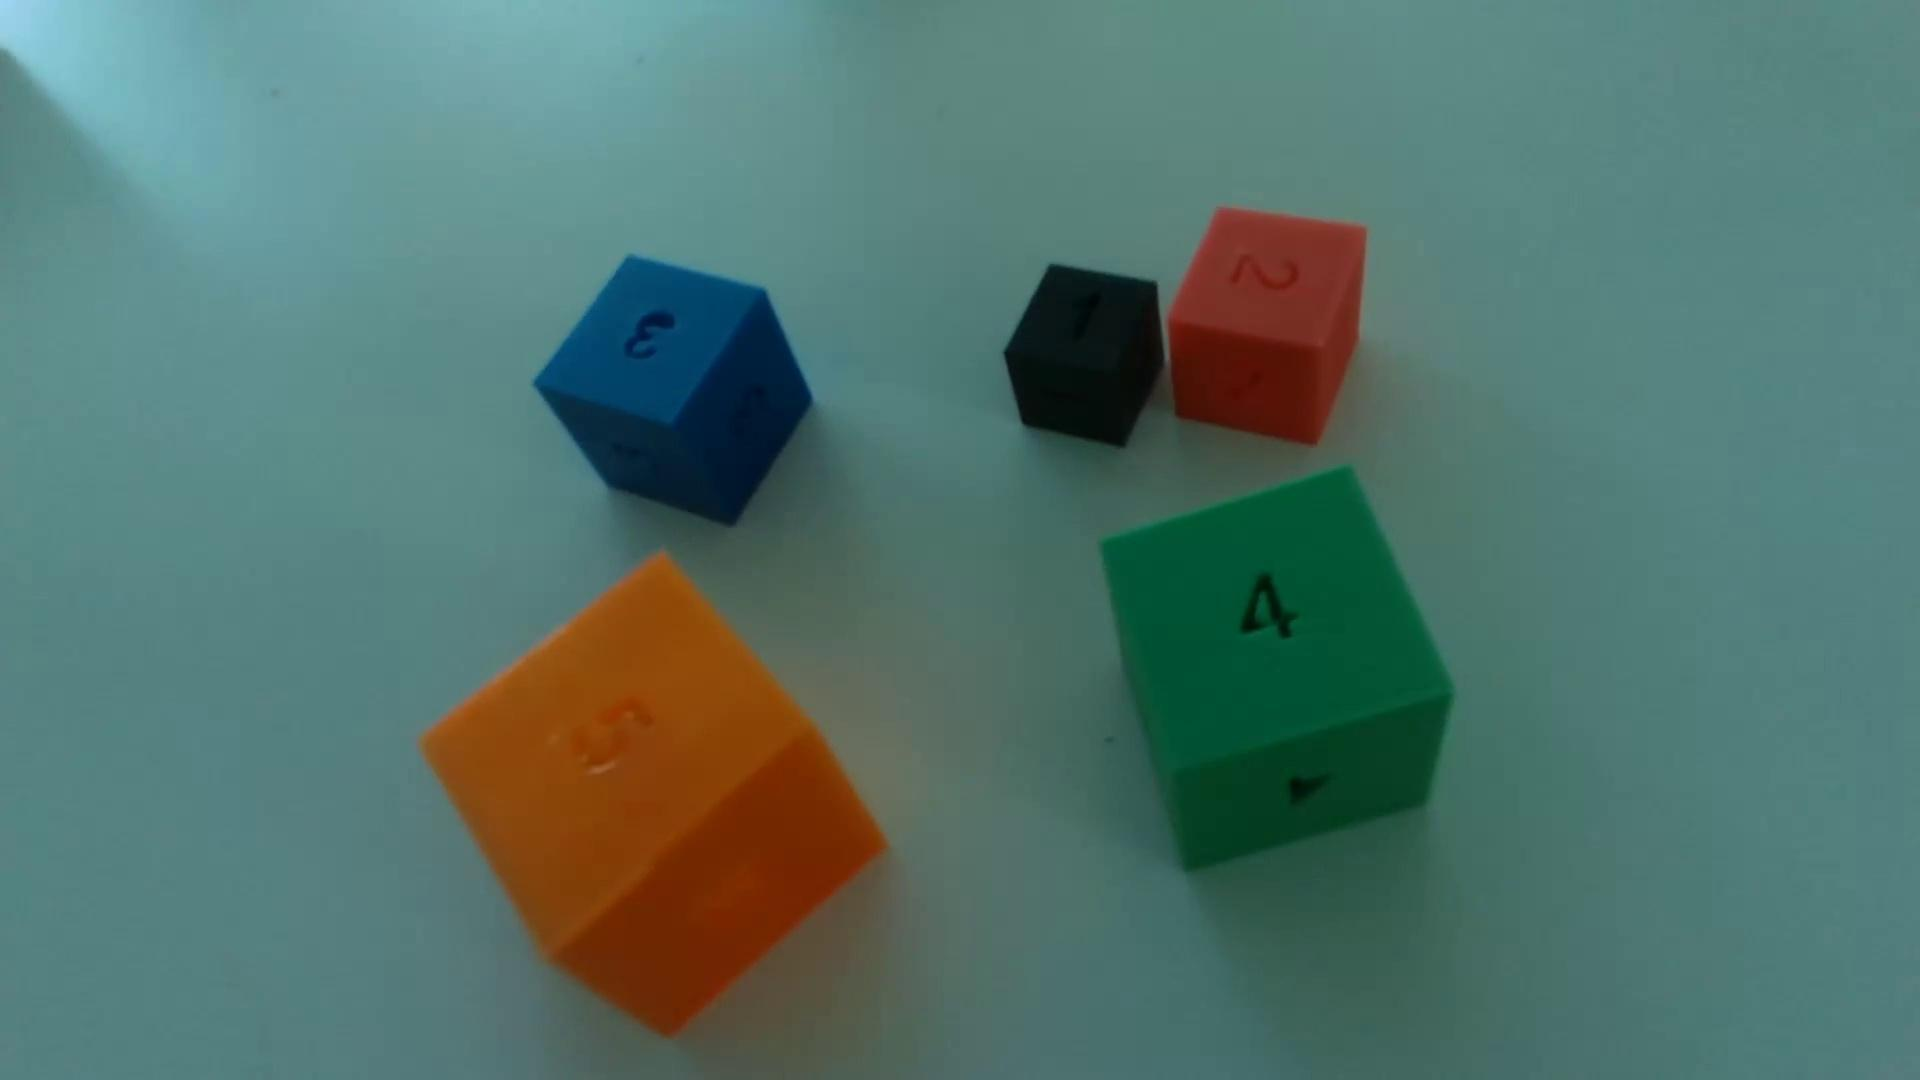black: (1004, 265, 1164, 448)
blue: (535, 257, 811, 526)
green: (1102, 469, 1452, 868)
orange: (422, 556, 884, 1035)
red: (1167, 208, 1367, 446)
